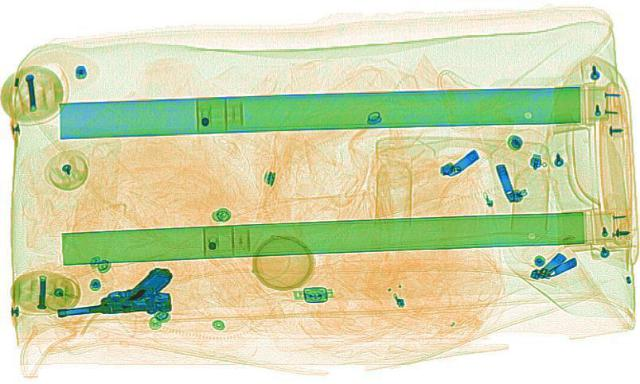Gun: (43, 264, 195, 329)
